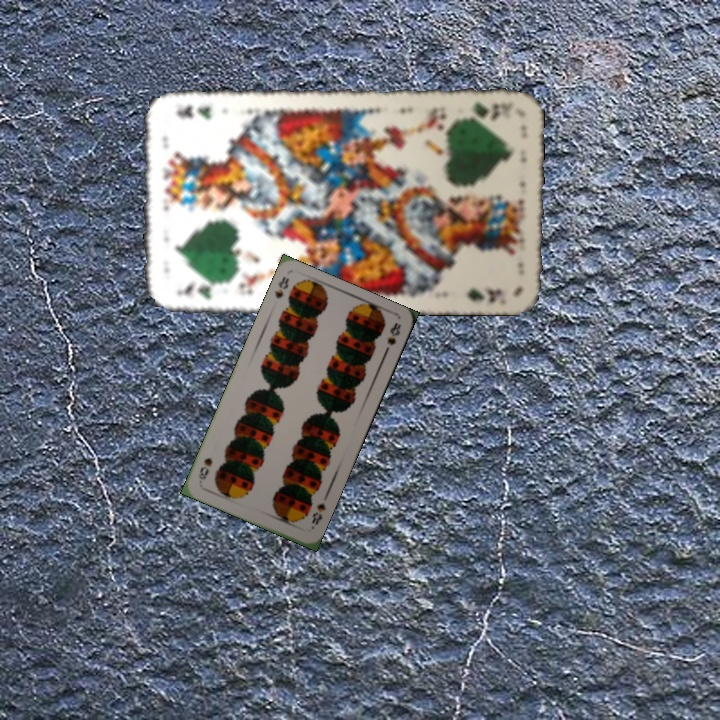GK: (459, 97, 516, 121), (171, 279, 227, 302)
S8: (307, 499, 328, 528), (271, 272, 292, 301)
